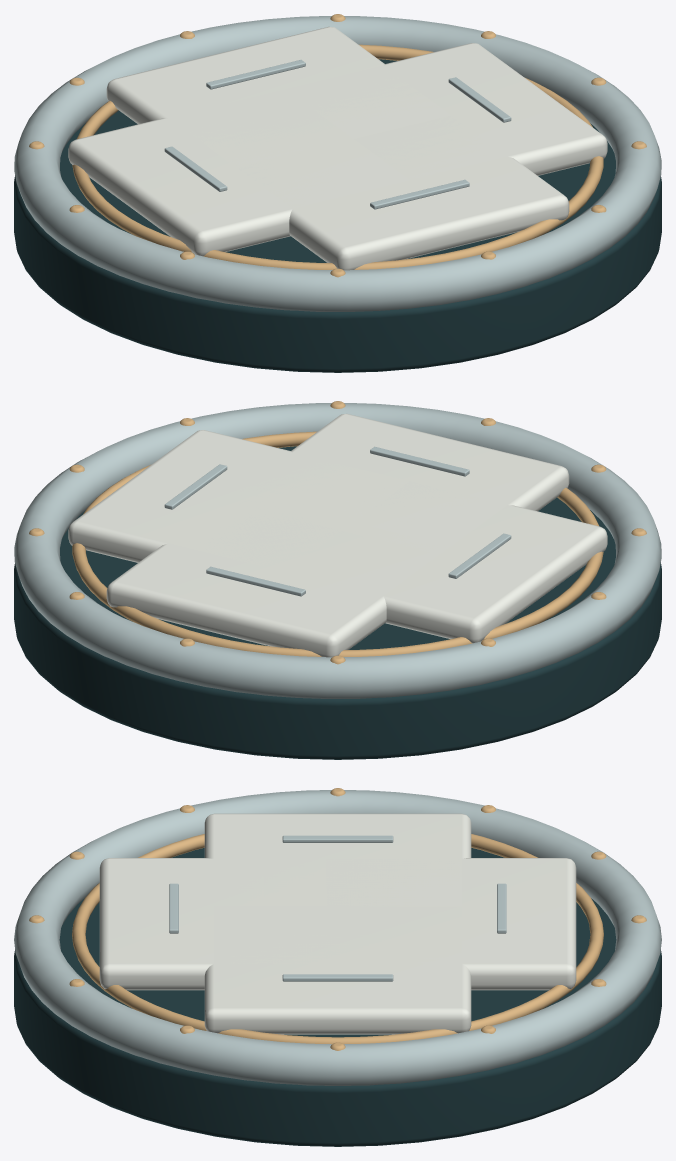
Rendered from iris-cache.glb.
3 renders of one model, top to bottom at view 1: azimuth 30°, elevation 25°; view 2: azimuth 150°, elevation 25°; view 3: azimuth 270°, elevation 25°, orthographic.
Visible parts, largest first — view 1: Machined outer rim, Iris socket, Interlocking leaf.002, Interlocking leaf.003, Interlocking leaf, Interlocking leaf.001, Calibration etching, Leaf witness.003, Leaf witness.001, Leaf witness, Leaf witness.002; view 2: Machined outer rim, Iris socket, Interlocking leaf.001, Interlocking leaf, Interlocking leaf.003, Interlocking leaf.002, Calibration etching, Leaf witness.001, Leaf witness.003, Leaf witness, Leaf witness.002; view 3: Machined outer rim, Iris socket, Interlocking leaf, Interlocking leaf.002, Interlocking leaf.003, Interlocking leaf.001, Calibration etching, Leaf witness, Leaf witness.002.
Part boxes in pixels (x1,y1,x2,y2): Machined outer rim: (14, 16, 661, 311); Iris socket: (14, 59, 661, 372); Interlocking leaf.002: (68, 90, 409, 256); Interlocking leaf.003: (231, 115, 569, 270); Interlocking leaf: (267, 43, 607, 179); Interlocking leaf.001: (106, 26, 450, 167); Calibration etching: (72, 44, 603, 269); Leaf witness.003: (370, 179, 469, 209); Leaf witness.001: (206, 59, 305, 89); Leaf witness: (448, 77, 511, 122); Leaf witness.002: (164, 146, 227, 191); Machined outer rim: (14, 403, 661, 698); Iris socket: (14, 446, 661, 759); Interlocking leaf.001: (106, 510, 450, 657); Interlocking leaf: (68, 430, 409, 569); Interlocking leaf.003: (239, 413, 569, 553); Interlocking leaf.002: (317, 477, 607, 643); Calibration etching: (72, 431, 603, 656); Leaf witness.001: (206, 566, 305, 596); Leaf witness.003: (370, 446, 469, 476); Leaf witness: (164, 464, 227, 509); Leaf witness.002: (448, 533, 511, 578); Machined outer rim: (14, 790, 661, 1085); Iris socket: (14, 848, 661, 1146); Interlocking leaf: (204, 906, 471, 1034); Interlocking leaf.002: (204, 813, 471, 906); Interlocking leaf.003: (99, 858, 349, 990); Interlocking leaf.001: (326, 858, 576, 990); Calibration etching: (72, 834, 603, 1044); Leaf witness: (282, 974, 393, 981); Leaf witness.002: (282, 835, 393, 842).
Bounding box in the file's own units: 1.7 × 0.306 × 1.7.
